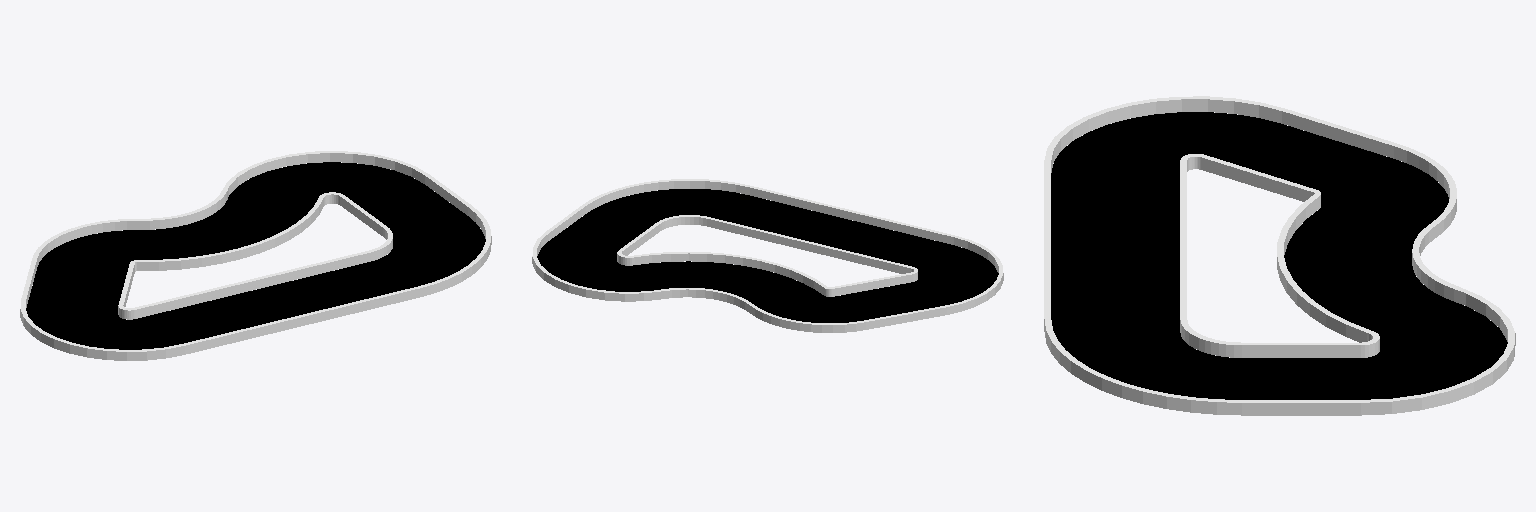
robot.urdf — sketchup_model:
<?xml version="1.0" ?>
<robot name="sketchup_model">

  <!-- 主賽道 -->
  <link name="body">
    <visual>
      <origin xyz="0 0 0" rpy="0 0 0"/>
      <geometry>
        <mesh filename="track.dae" scale="1.25 1.25 1.25"/>
      </geometry>
      <material name="gray_track">
        <color rgba="0 0 0 1"/> <!-- 黑色賽道 -->
      </material>
    </visual>
    <collision>
      <origin xyz="0 0 0" rpy="0 0 0"/>
      <geometry>
        <mesh filename="track.dae" scale="1.25 1.25 1.25"/>
      </geometry>
    </collision>
    <inertial>
      <mass value="0"/>
      <inertia ixx="0" ixy="0" ixz="0" iyy="0" iyz="0" izz="0"/>
    </inertial>
  </link>

  <!-- 疊加白色邊框 -->
  <link name="edge">
    <visual>
      <origin xyz="0 0 0.001" rpy="0 0 0"/>
      <geometry>
        <mesh filename="edge.dae" scale="1.25 1.25 1.25"/>
      </geometry>
      <material name="white_edge">
        <color rgba="1 1 1 1"/> <!-- 白色 -->
      </material>
    </visual>
    <collision>
      <origin xyz="0 0 0" rpy="0 0 0"/>
      <geometry>
        <mesh filename="edge.dae" scale="1.25 1.25 1.25"/>
      </geometry>
    </collision>
    <inertial>
      <mass value="0"/>
      <inertia ixx="0" ixy="0" ixz="0" iyy="0" iyz="0" izz="0"/>
    </inertial>
  </link>

  <!-- 固定邊框到主體 -->
  <joint name="edge_to_body" type="fixed">
    <parent link="body"/>
    <child link="edge"/>
    <origin xyz="0 0 0" rpy="0 0 0"/>
  </joint>

</robot>

--- Facts derived from the render (not from the file) ---
The picture shows the robot from 3 angles, left to right: view 1: azimuth 30°, elevation 25°; view 2: azimuth 150°, elevation 25°; view 3: azimuth 270°, elevation 25°; orthographic projection.
Model sketchup_model with 2 links and 1 joints (1 fixed), rooted at body, posed every joint at zero.
Links seen in each view (by area): view 1: body, edge; view 2: body, edge; view 3: body, edge.
Link boxes in pixels (<box>): body: <box>26,162,485,349</box>; edge: <box>20,151,491,360</box>; body: <box>537,189,998,322</box>; edge: <box>532,179,1003,332</box>; body: <box>1051,112,1507,399</box>; edge: <box>1044,96,1515,415</box>.
Size in the robot's own frame: 13.01 by 8.45 by 0.251 metres.
2 mesh visuals loaded from 2 distinct referenced files (2 Collada DAE).
